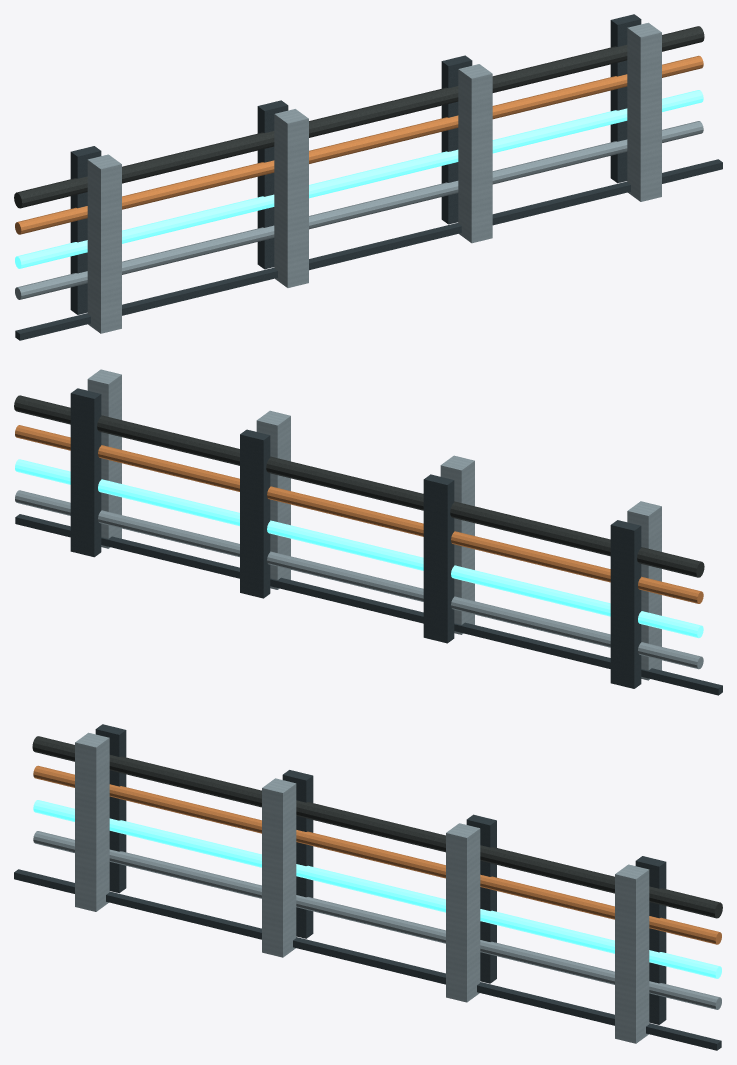
File: utility_conduit.glb
The picture shows the model from 3 angles, top to bottom: view 1: azimuth 30°, elevation 25°; view 2: azimuth 150°, elevation 25°; view 3: azimuth 330°, elevation 25°; orthographic projection.
Parts seen in each view (by area): view 1: Wall_Brackets__alloy, Service_Runs__rubber, Clamp_Faces__graphite, Service_Runs__cyan, Service_Runs__amber, Service_Runs__alloy, Grounding_Rail__graphite; view 2: Clamp_Faces__graphite, Wall_Brackets__alloy, Service_Runs__rubber, Service_Runs__cyan, Service_Runs__alloy, Service_Runs__amber, Grounding_Rail__graphite; view 3: Wall_Brackets__alloy, Service_Runs__rubber, Clamp_Faces__graphite, Service_Runs__cyan, Service_Runs__alloy, Service_Runs__amber, Grounding_Rail__graphite.
Part boxes in pixels (x1=…): Wall_Brackets__alloy: x1=87, y1=22, x2=661, y2=333; Service_Runs__rubber: x1=14, y1=26, x2=704, y2=208; Clamp_Faces__graphite: x1=70, y1=14, x2=641, y2=314; Service_Runs__cyan: x1=15, y1=90, x2=703, y2=268; Service_Runs__amber: x1=15, y1=55, x2=703, y2=234; Service_Runs__alloy: x1=15, y1=121, x2=703, y2=299; Grounding_Rail__graphite: x1=15, y1=159, x2=722, y2=340; Clamp_Faces__graphite: x1=70, y1=388, x2=641, y2=688; Wall_Brackets__alloy: x1=87, y1=369, x2=661, y2=680; Service_Runs__rubber: x1=14, y1=395, x2=704, y2=577; Service_Runs__cyan: x1=15, y1=459, x2=703, y2=638; Service_Runs__alloy: x1=15, y1=490, x2=703, y2=669; Service_Runs__amber: x1=15, y1=425, x2=703, y2=603; Grounding_Rail__graphite: x1=15, y1=514, x2=722, y2=695; Wall_Brackets__alloy: x1=75, y1=732, x2=649, y2=1043; Service_Runs__rubber: x1=32, y1=736, x2=722, y2=918; Clamp_Faces__graphite: x1=95, y1=724, x2=666, y2=1024; Service_Runs__cyan: x1=33, y1=800, x2=721, y2=978; Service_Runs__alloy: x1=33, y1=831, x2=721, y2=1009; Service_Runs__amber: x1=33, y1=765, x2=721, y2=944; Grounding_Rail__graphite: x1=14, y1=869, x2=721, y2=1050.
Bounding box in the file's own units: 2.37 × 0.53 × 0.168.
Materials: 5 (5 with a texture image).
